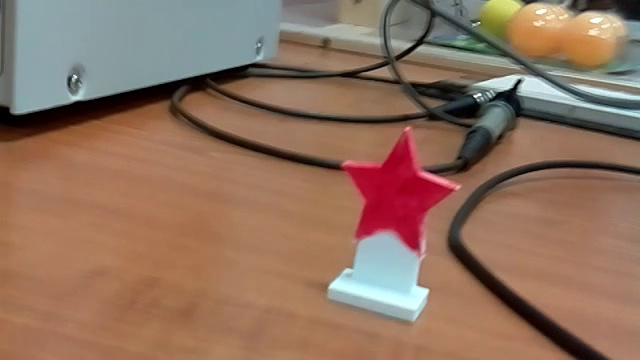star: (314, 118, 464, 320)
